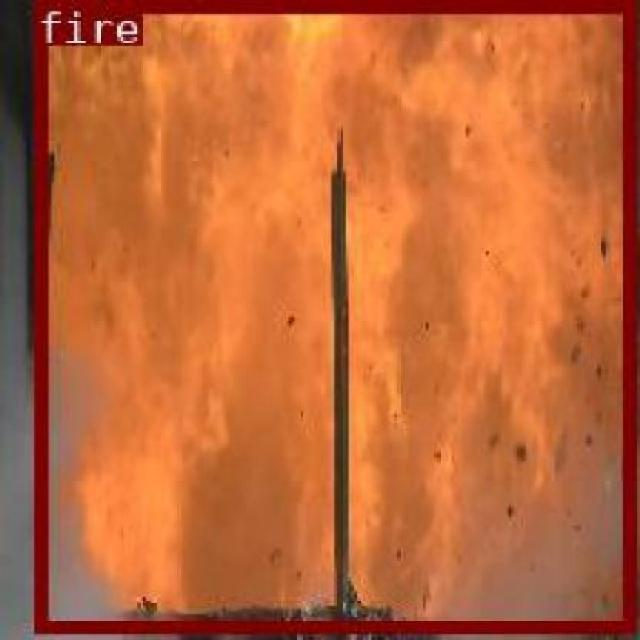Fire: (333, 314, 603, 629)
